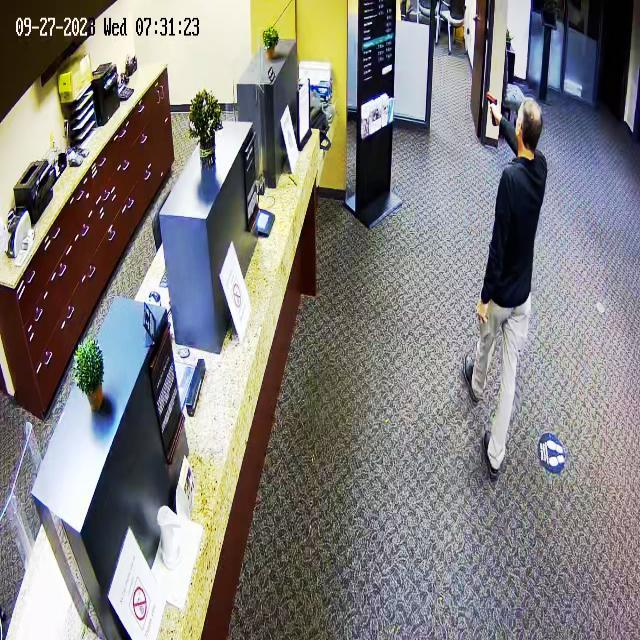Gun: (475, 82, 511, 121)
